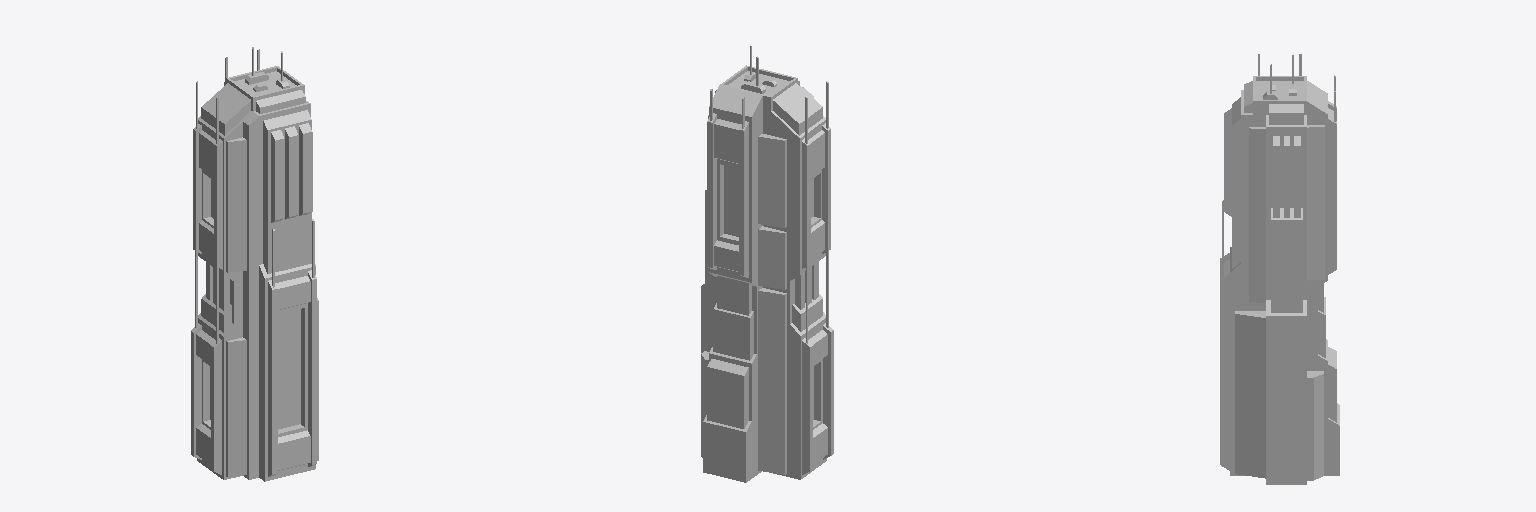
Rendered from tallbuilding.obj.
3 renders of one model, left to right at view 1: azimuth 30°, elevation 25°; view 2: azimuth 150°, elevation 25°; view 3: azimuth 270°, elevation 25°, orthographic.
Visible parts, largest first — view 1: sci_fi_city_structure_9; view 2: sci_fi_city_structure_9; view 3: sci_fi_city_structure_9.
Boxes of the visible parts, x1=… form: sci_fi_city_structure_9: x1=191, y1=47, x2=318, y2=481; sci_fi_city_structure_9: x1=701, y1=46, x2=833, y2=482; sci_fi_city_structure_9: x1=1220, y1=54, x2=1339, y2=484.
Size of the model in its own units: 7890 by 28549 by 7575.